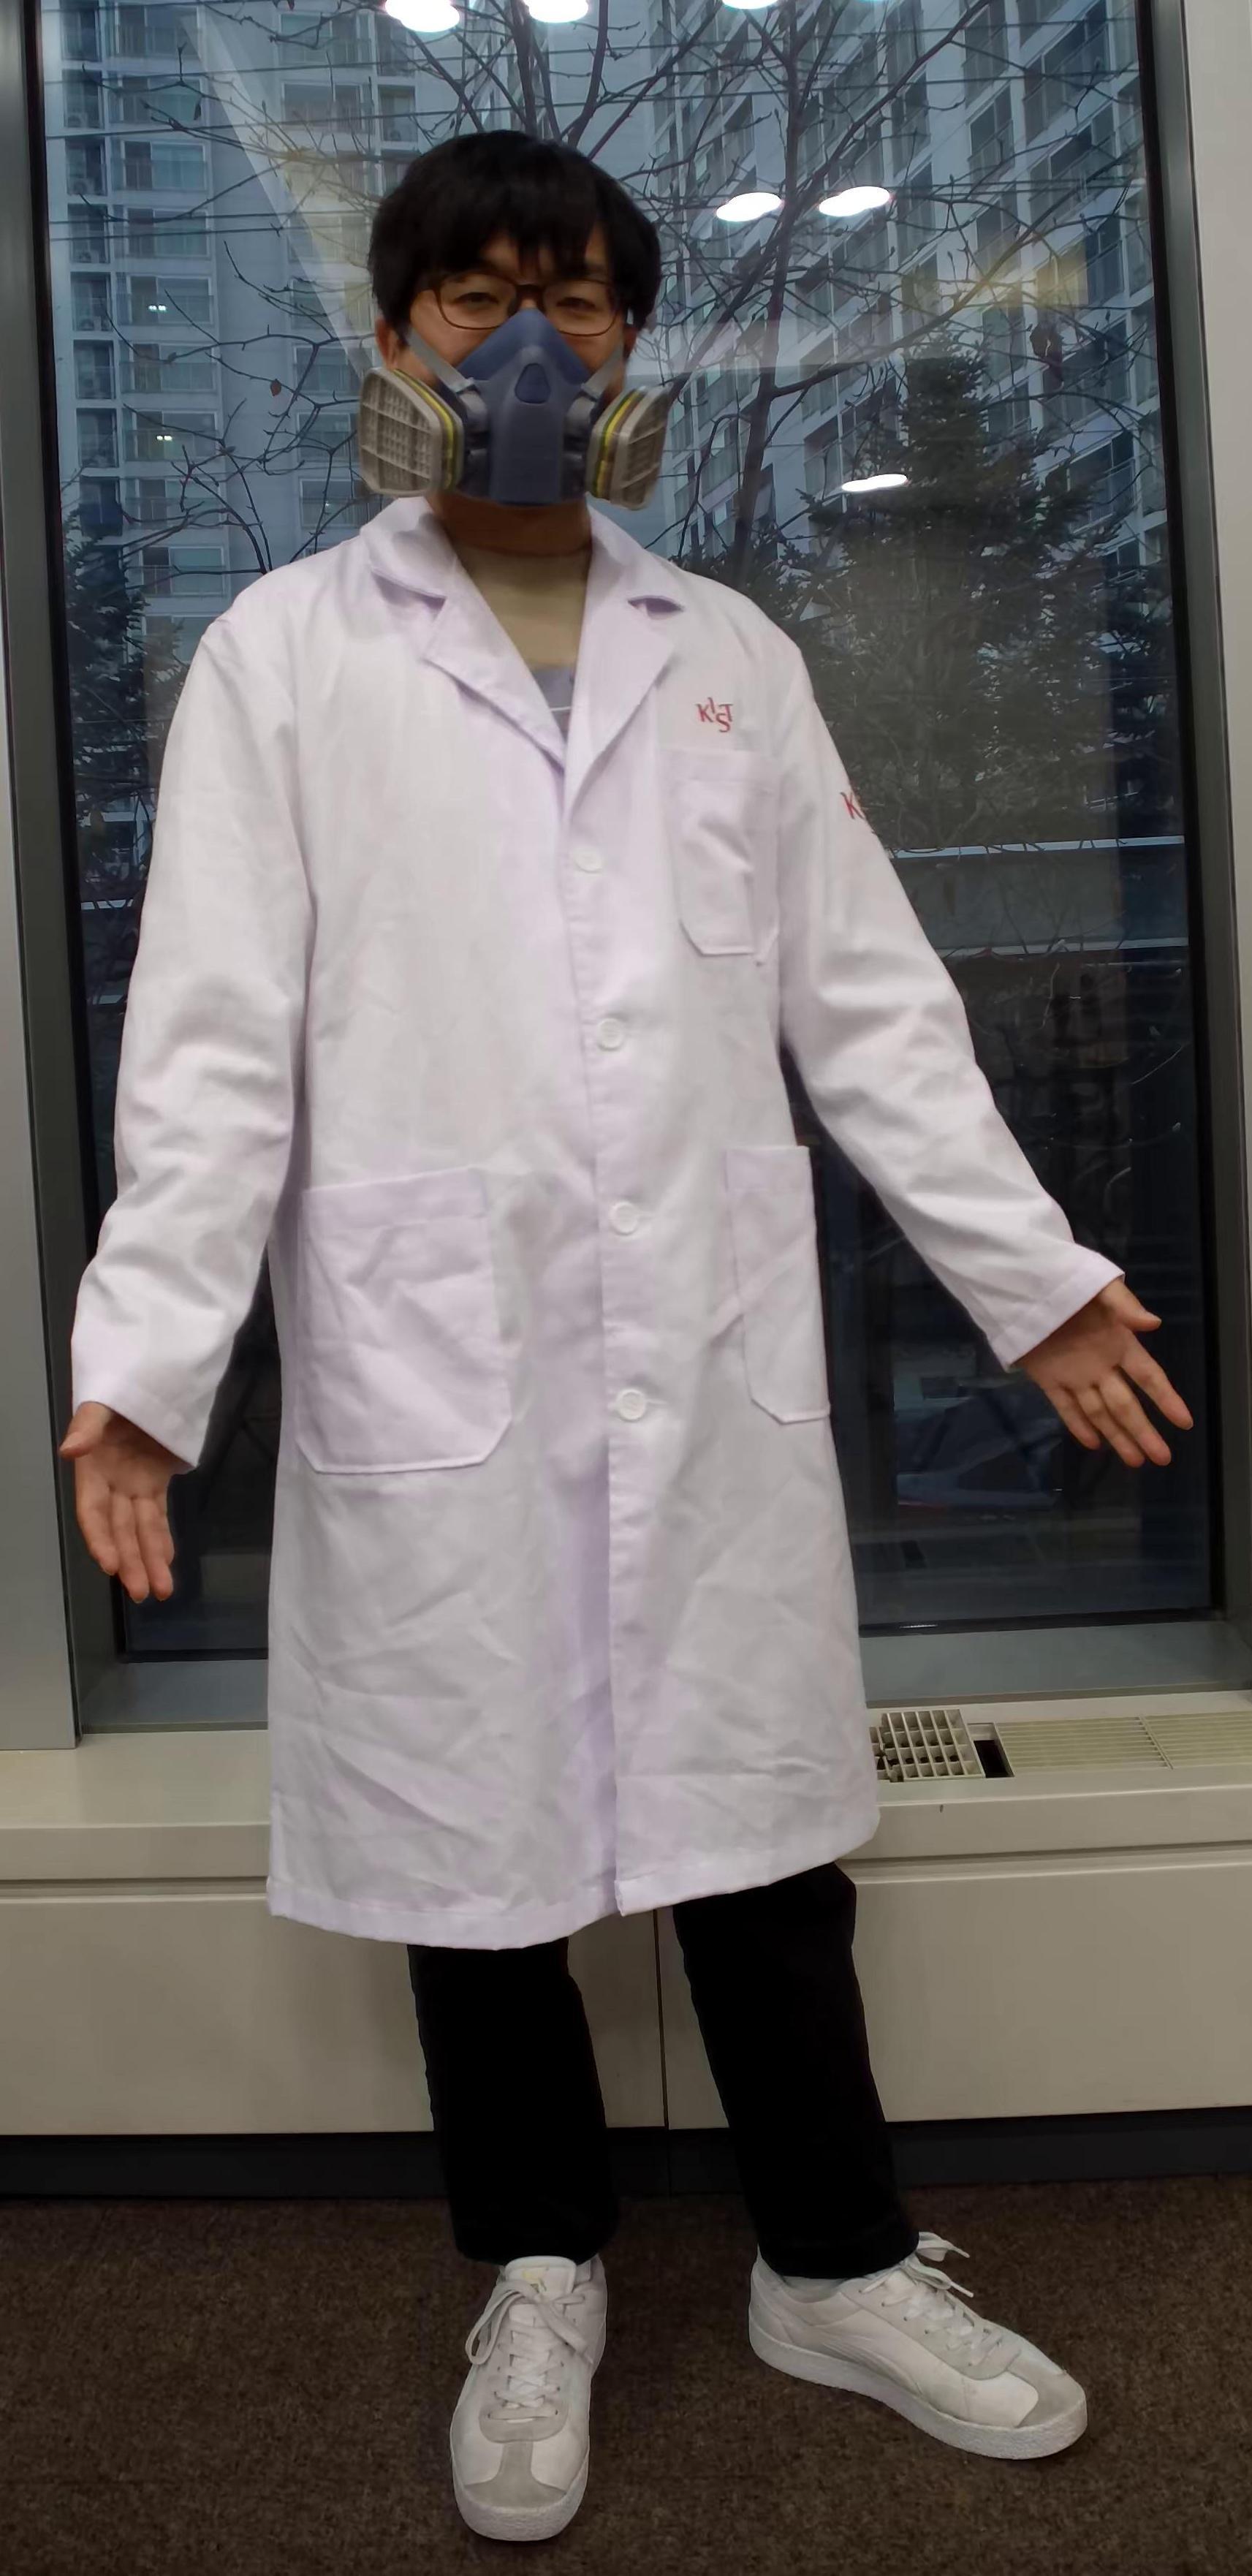lab_coat: (235, 521, 1024, 1985)
